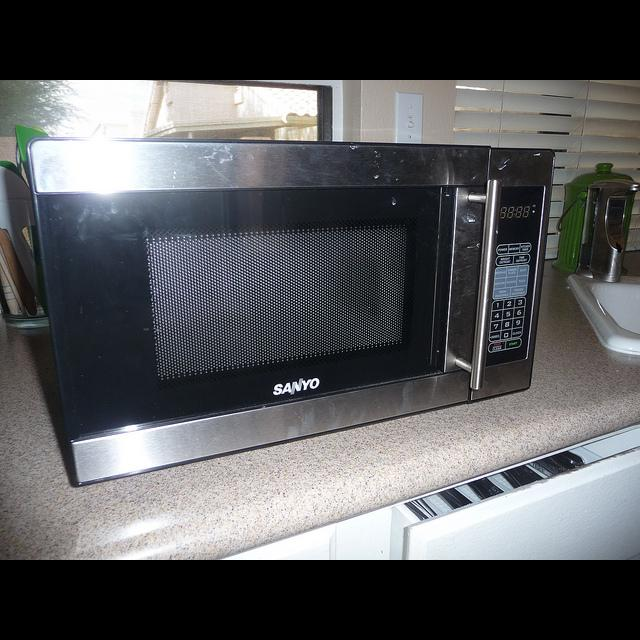Microwave: (37, 134, 563, 488)
